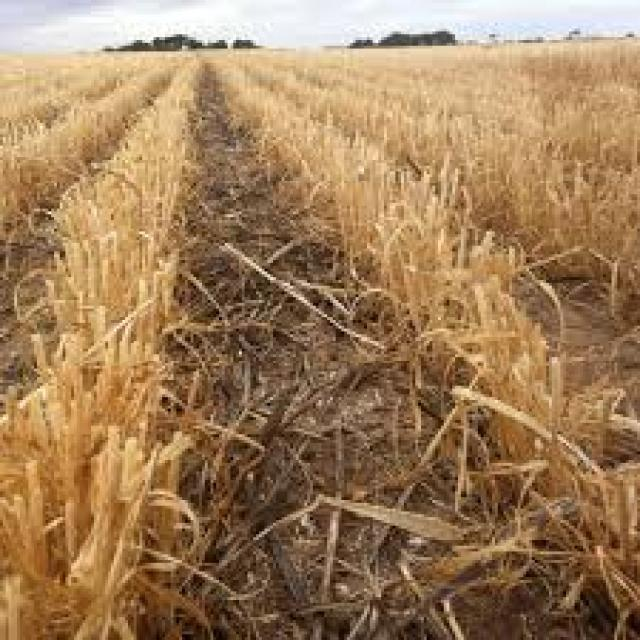stubble_waste: (364, 237, 640, 627), (0, 262, 197, 640), (0, 48, 185, 248), (289, 40, 474, 228), (486, 38, 640, 238)
